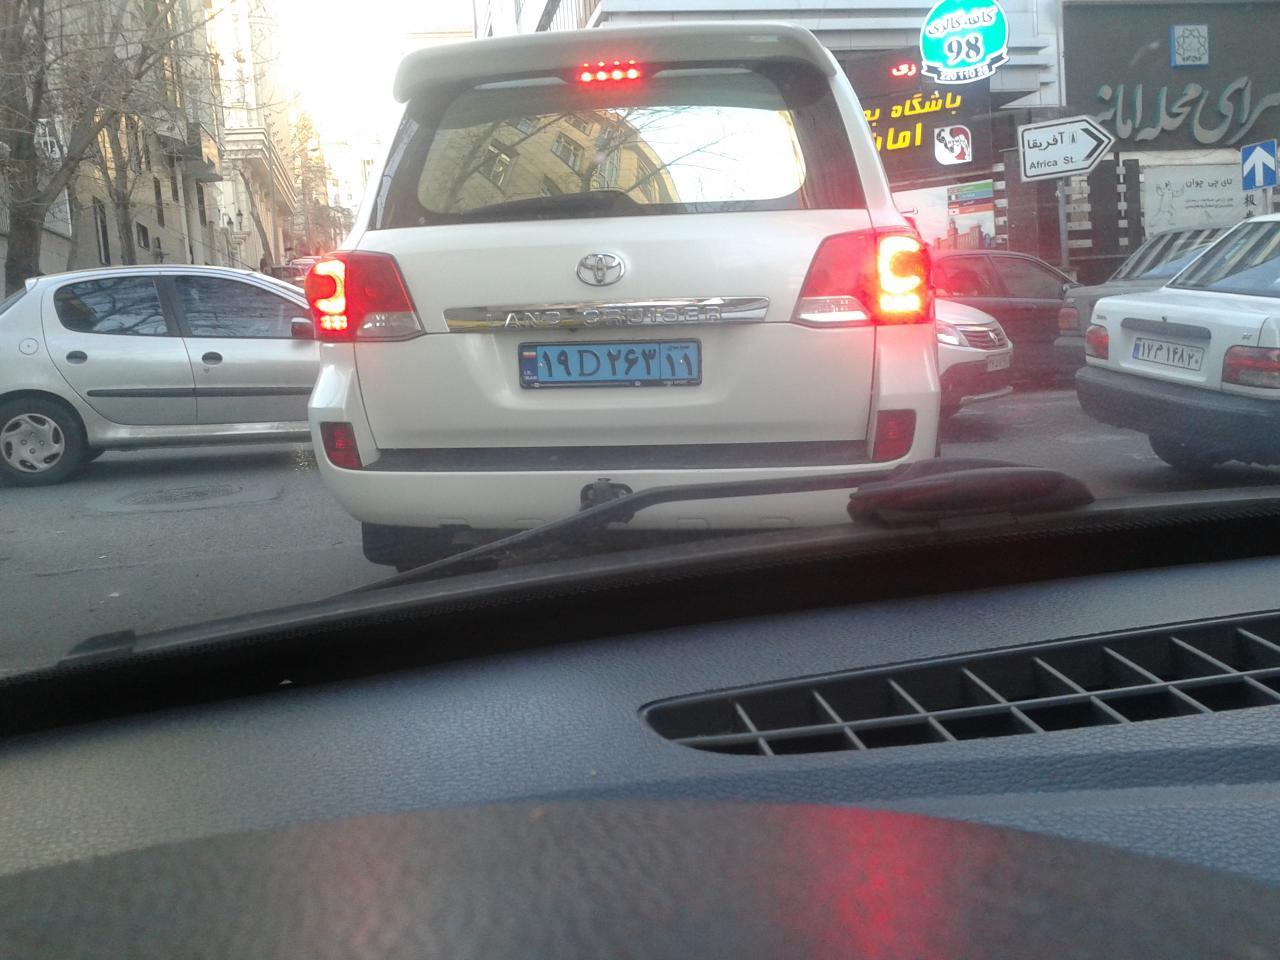car: (521, 344, 699, 388), (1137, 340, 1211, 372)
